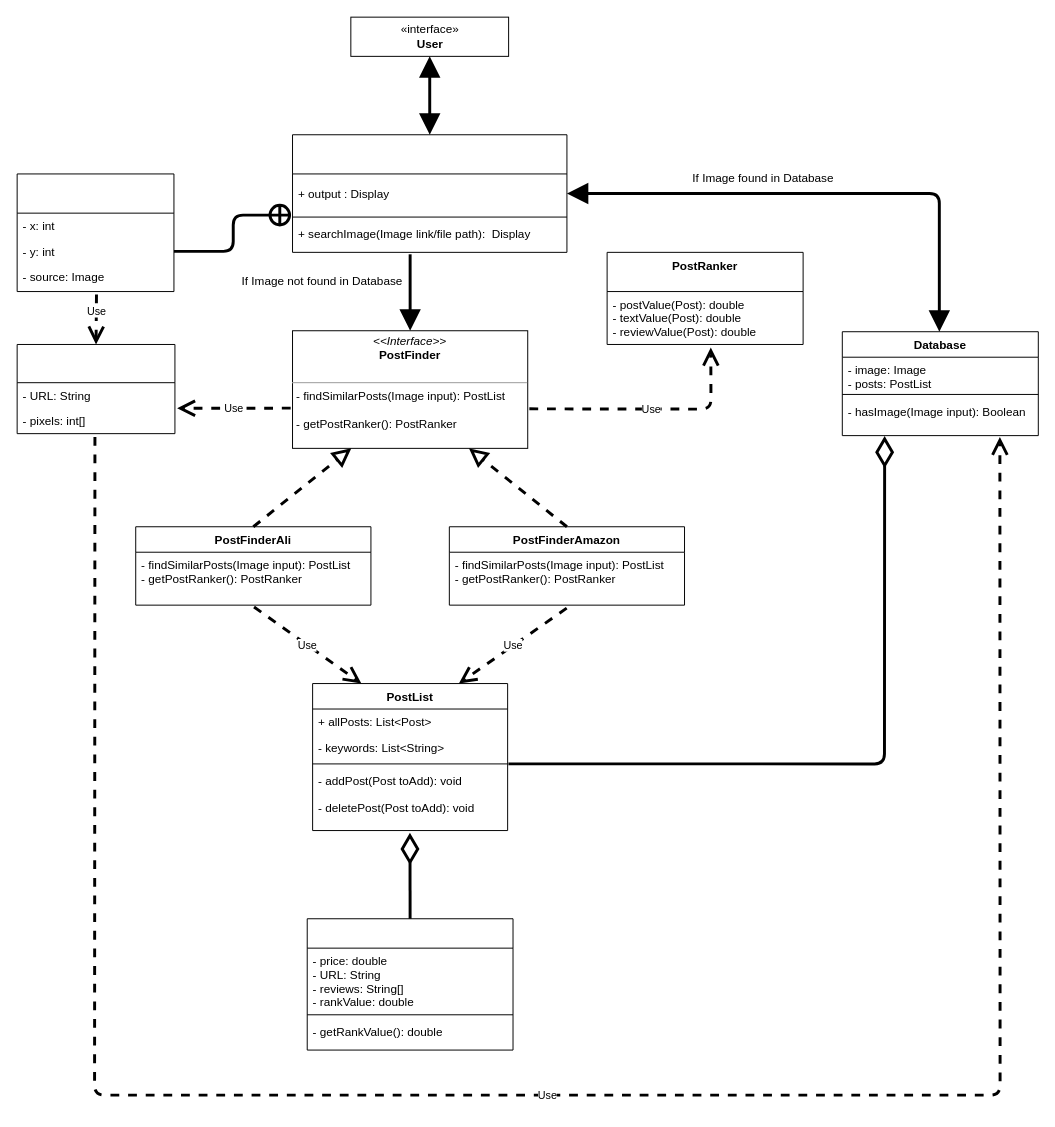
Image size: 1055x1127. Some labels were removed from this diagram. The box of each missing label's shape, as (x1, y1, x2, y2) in pixels:
Display: (16, 173, 174, 292)
FrontEndIO: (292, 134, 567, 252)
Image: (16, 343, 175, 434)
Post: (306, 918, 513, 1050)
